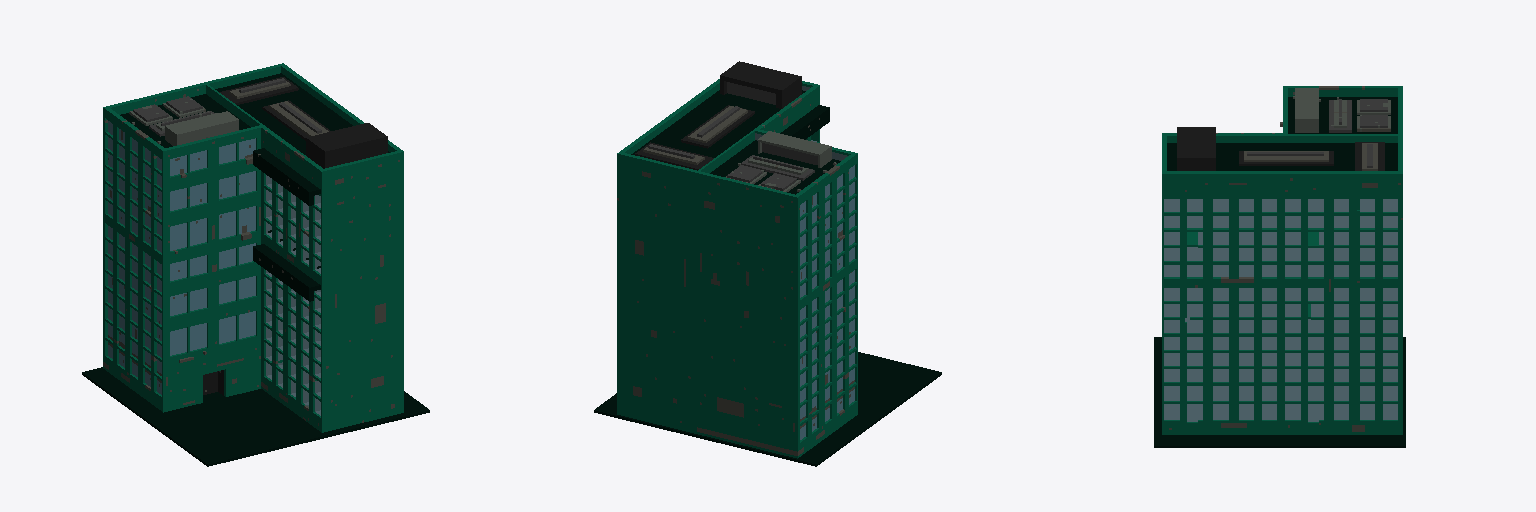
3 views of the same model, side by side, from view 1: azimuth 30°, elevation 25°; view 2: azimuth 150°, elevation 25°; view 3: azimuth 270°, elevation 25° (orthographic).
Visible parts, largest first — view 1: object 1; view 2: object 1; view 3: object 1.
Part boxes in pixels (left/top/right/bottom): object 1: left=82, top=63, right=429, bottom=466; object 1: left=594, top=61, right=941, bottom=466; object 1: left=1154, top=86, right=1405, bottom=447.
Bounding box in the file's own units: 10 × 11.8 × 9.8.
1 materials, 1 textured.